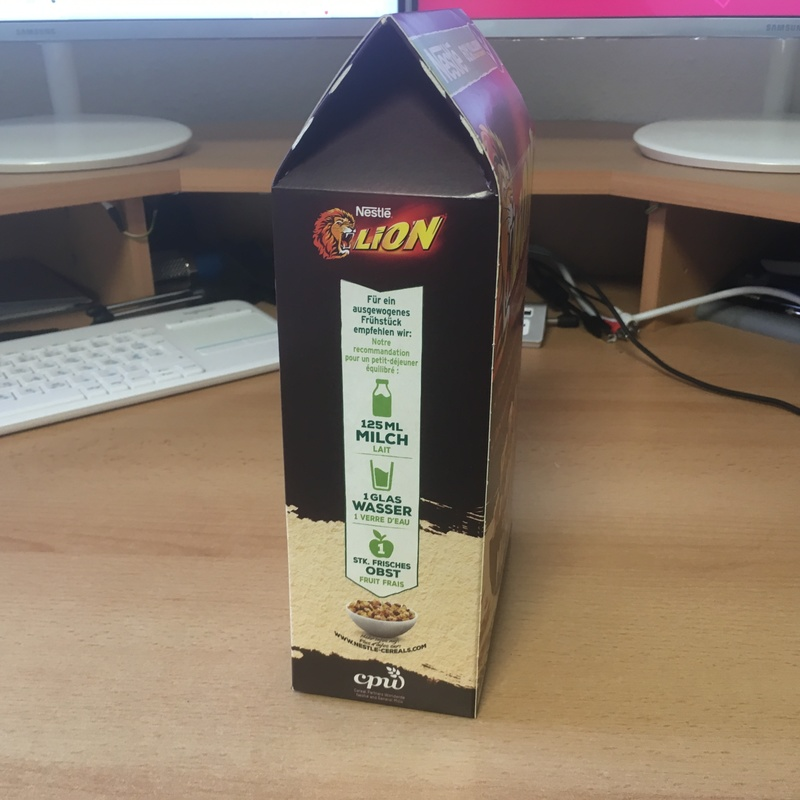cereals: (274, 9, 533, 720)
